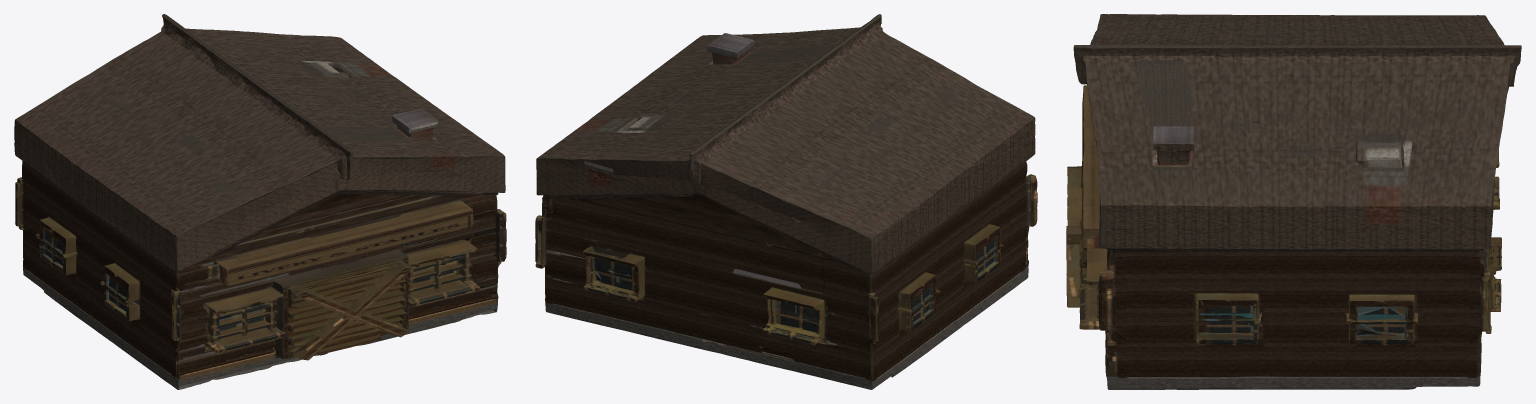
Rendered from scene-0-objects-8-glbData-24360fb8e614.glb.
3 renders of one model, left to right at view 1: azimuth 30°, elevation 25°; view 2: azimuth 150°, elevation 25°; view 3: azimuth 270°, elevation 25°, orthographic. The views are drawn at different scales.
Visible parts, largest first — view 1: Stables_Optimized; view 2: Stables_Optimized; view 3: Stables_Optimized.
Part boxes in pixels (x1,y1,x2,y2): Stables_Optimized: [14, 14, 506, 389]; Stables_Optimized: [535, 14, 1037, 389]; Stables_Optimized: [1066, 14, 1521, 389].
Size of the model in its own units: 9.99 by 5.8 by 9.5.
Materials: 1 (1 with a texture image).
